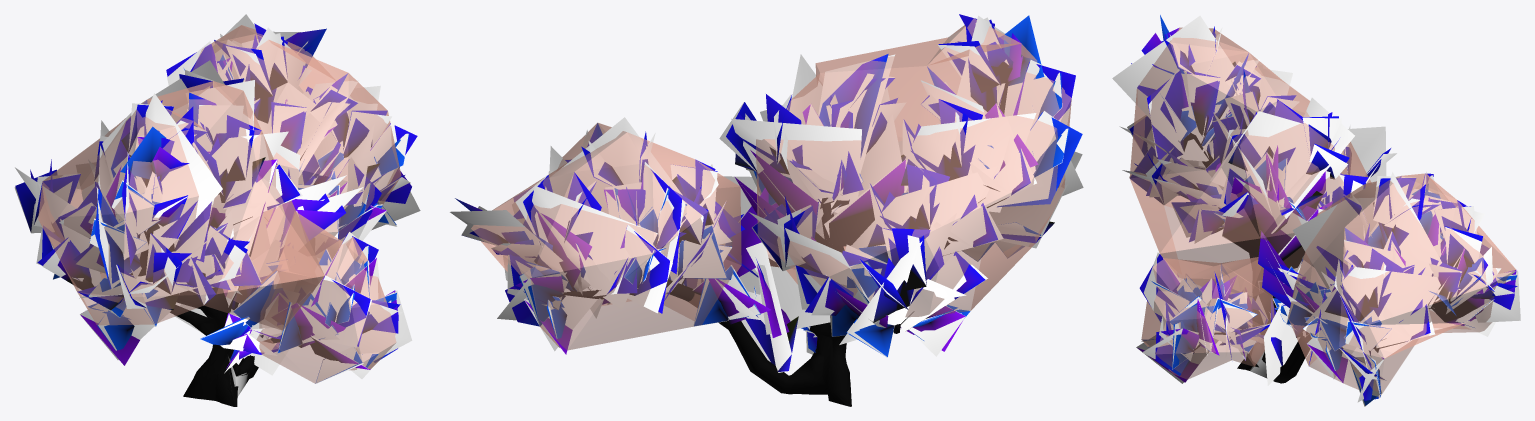
Rendered from Juniper_tree_01.dae.
3 renders of one model, left to right at view 1: azimuth 30°, elevation 25°; view 2: azimuth 150°, elevation 25°; view 3: azimuth 270°, elevation 25°, orthographic. The views are drawn at different scales.
Visible parts, largest first — view 1: Colmesh-1, Juniper_tree_01_a350, Juniper_tree_01_a900; view 2: Colmesh-1, Juniper_tree_01_a350, Juniper_tree_01_a900; view 3: Colmesh-1, Juniper_tree_01_a350, Juniper_tree_01_a900.
Boxes of the visible parts, x1,y1,x2,y2 form: Colmesh-1: (38,25,401,403); Juniper_tree_01_a350: (14,14,420,406); Juniper_tree_01_a900: (15,23,417,406); Colmesh-1: (471,18,1071,350); Juniper_tree_01_a350: (450,15,1083,406); Juniper_tree_01_a900: (455,14,1082,406); Colmesh-1: (1129,27,1515,397); Juniper_tree_01_a350: (1112,15,1520,406); Juniper_tree_01_a900: (1129,26,1517,405).
Bounding box in the file's own units: 8.1 × 7.56 × 6.34.
